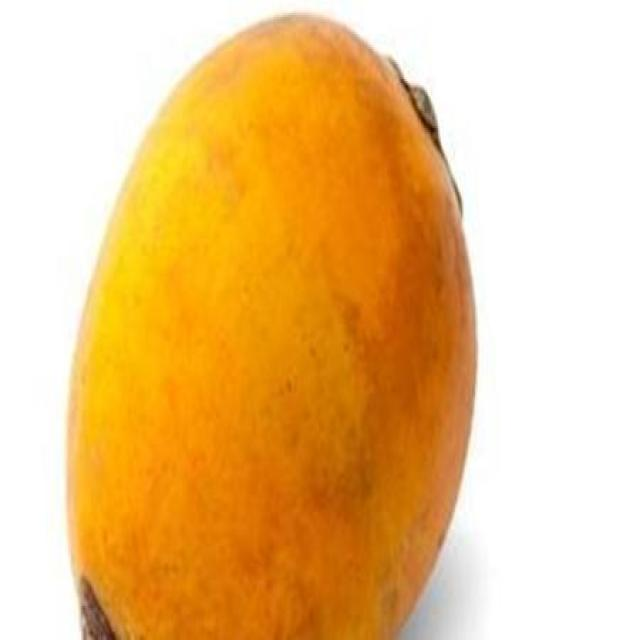good: (64, 15, 479, 638)
